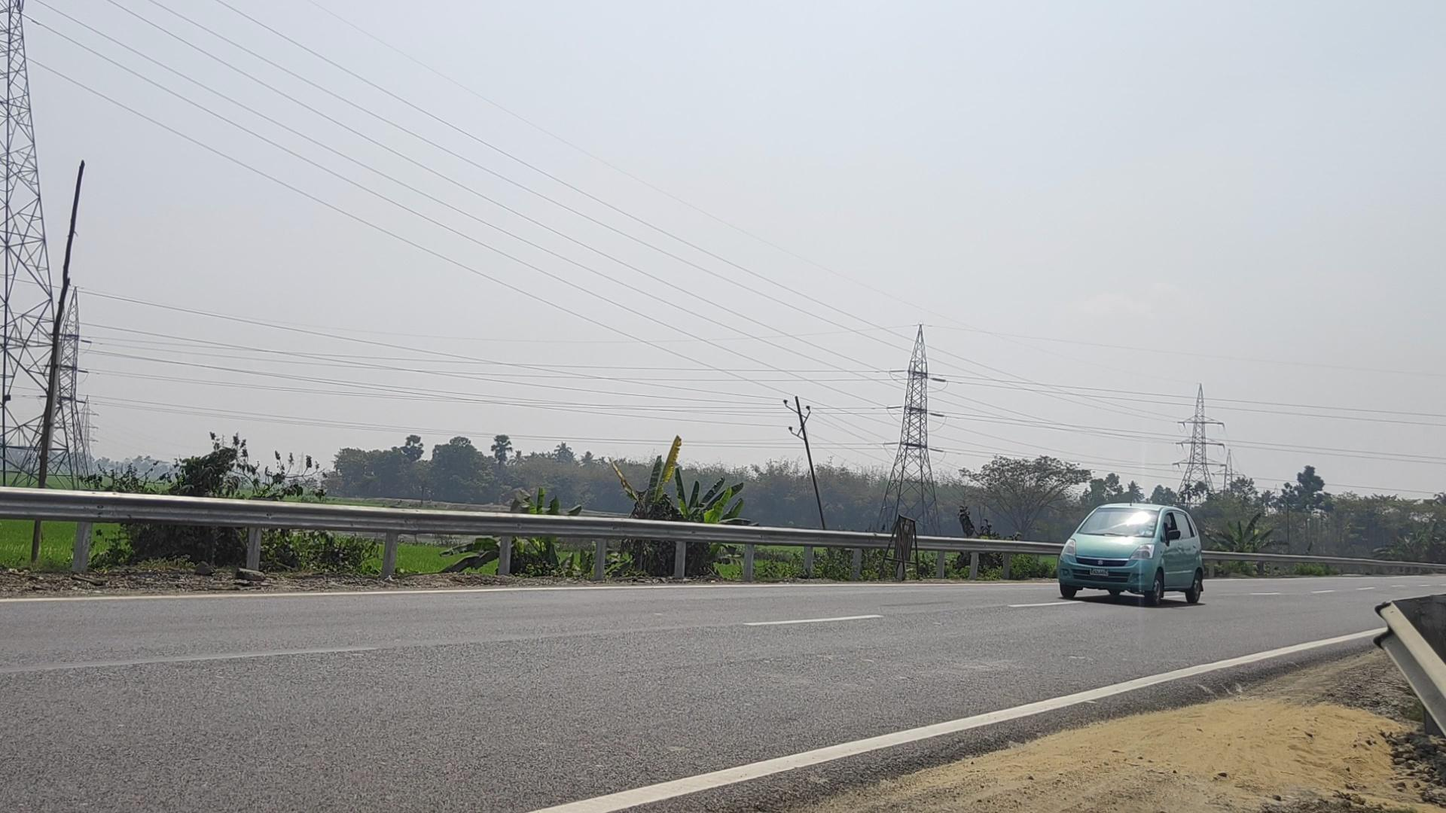car: (1057, 502, 1204, 608)
